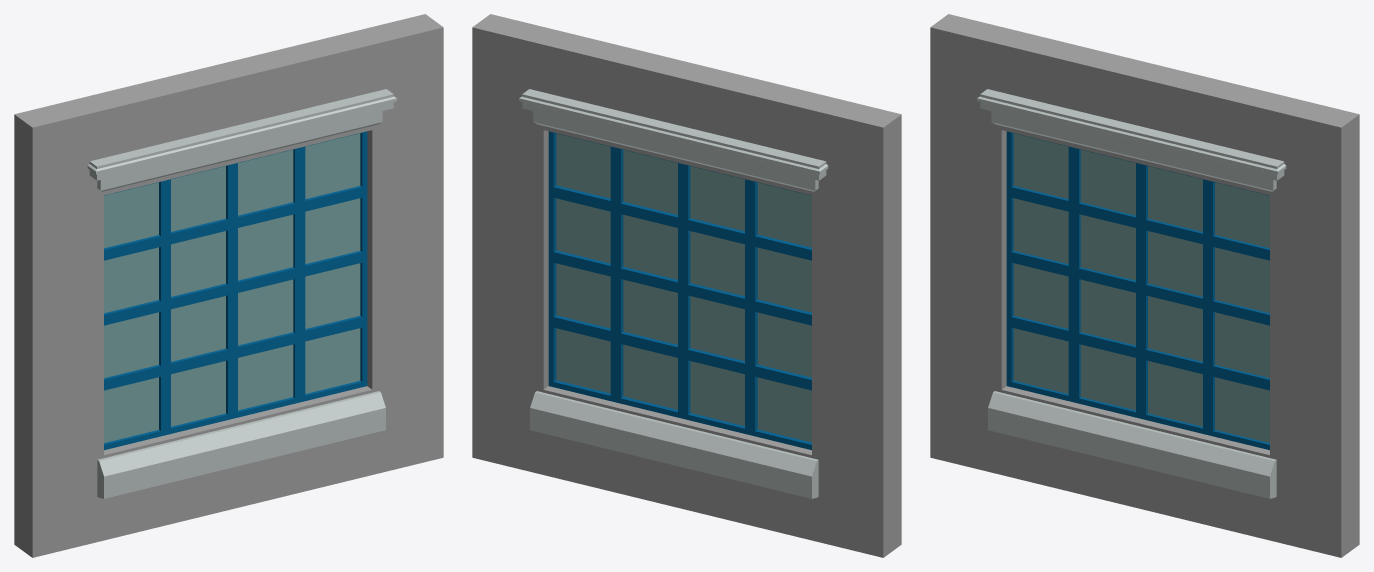
File: NY_Street_Window_07.fbx
3 renders of one model, left to right at view 1: azimuth 30°, elevation 25°; view 2: azimuth 150°, elevation 25°; view 3: azimuth 330°, elevation 25°, orthographic.
Parts seen in each view (by area): view 1: NY_Street_Window_07; view 2: NY_Street_Window_07; view 3: NY_Street_Window_07.
Boxes of the visible parts, x1=… form: NY_Street_Window_07: x1=14, y1=14, x2=443, y2=557; NY_Street_Window_07: x1=472, y1=14, x2=901, y2=557; NY_Street_Window_07: x1=930, y1=14, x2=1359, y2=557.
Bounding box in the file's own units: 400 × 400 × 59.09.
